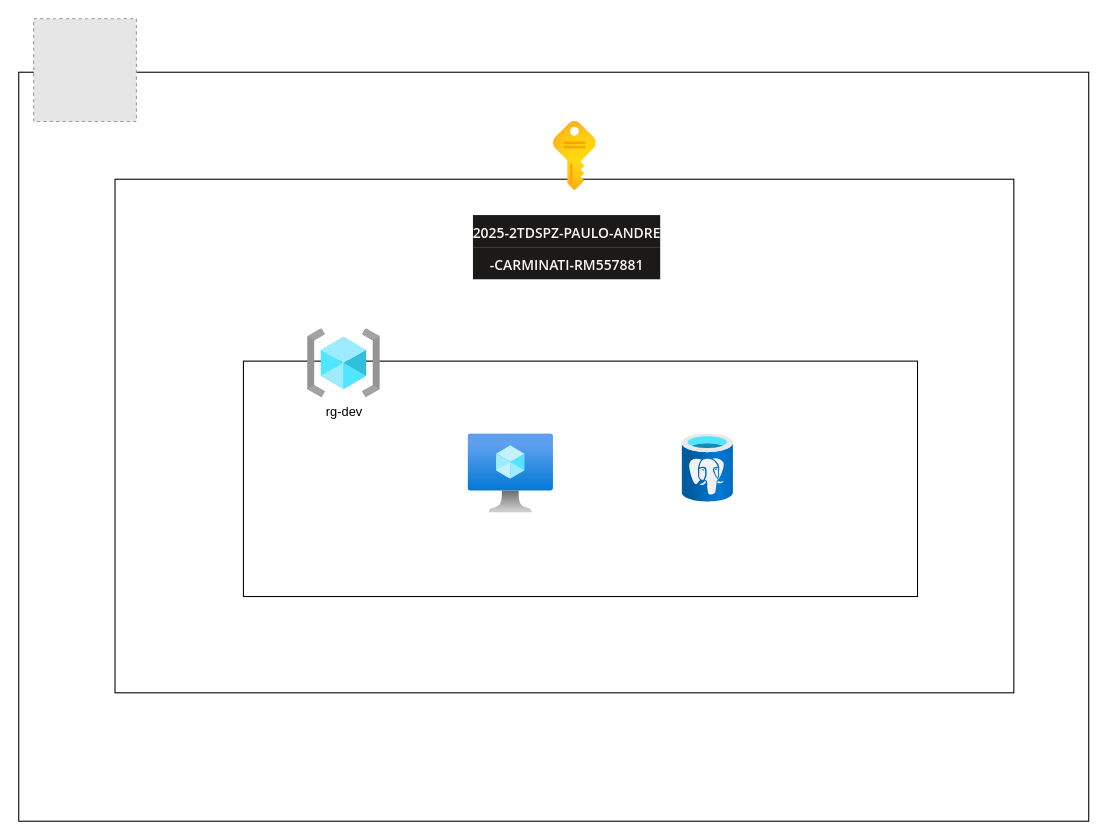
Some shapes in this 1107 by 840 pixel diagram are drawn without their labels. Grey dashed boxes stand in for pictures. The centre of each missing label's shape, as x and y in pixels:
"db-dev" goes at [707,467].
"VM-linux" goes at [510,473].
